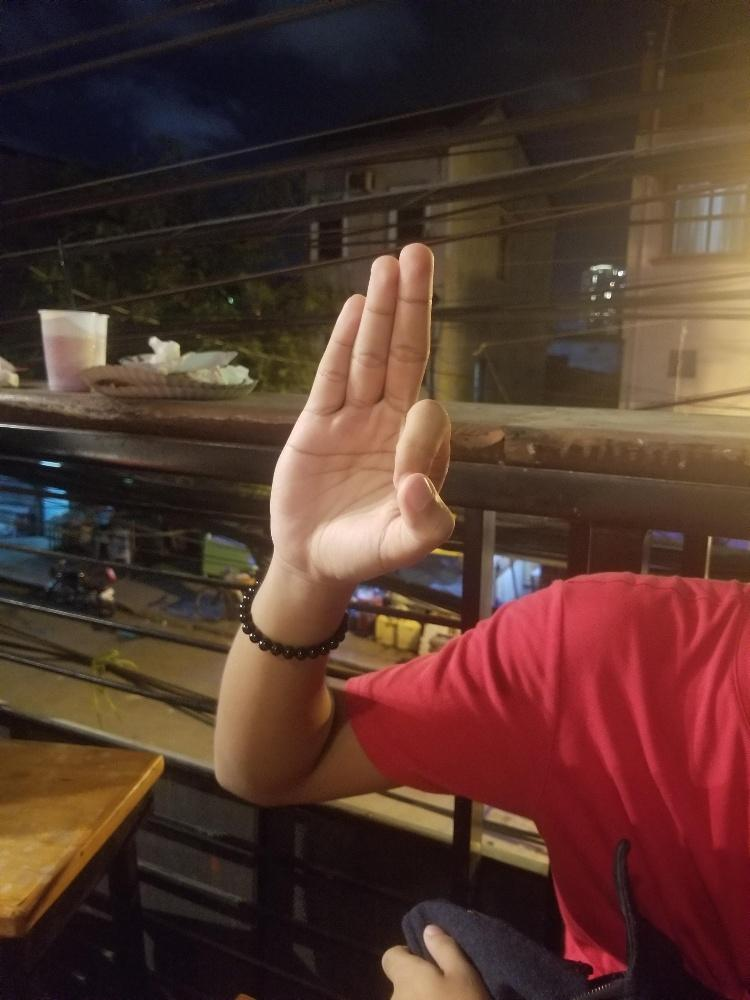f: (267, 241, 453, 578)
